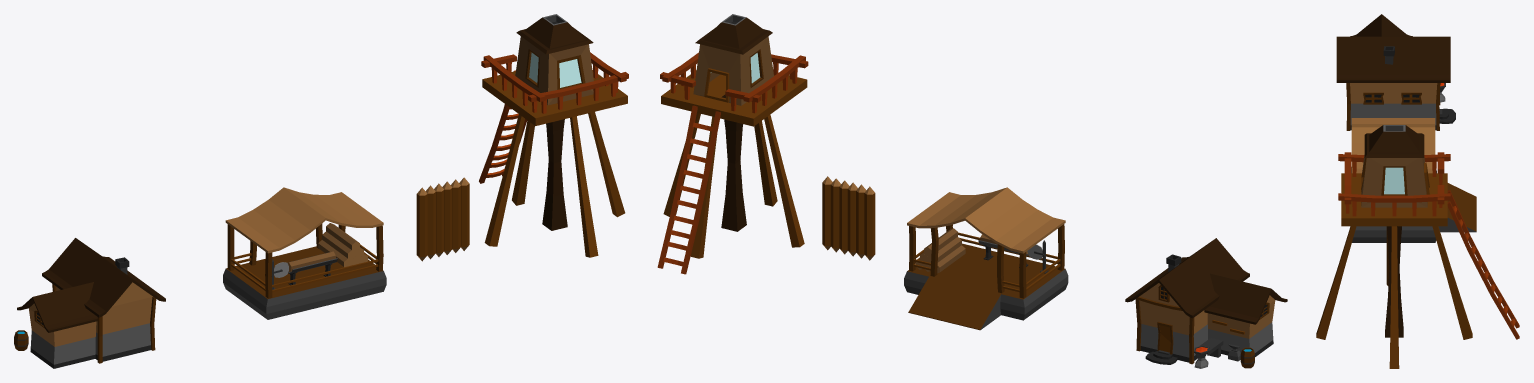
The model's file is Low Poly Request 1.fbx.
3 renders of one model, left to right at view 1: azimuth 30°, elevation 25°; view 2: azimuth 150°, elevation 25°; view 3: azimuth 270°, elevation 25°, orthographic.
Visible parts, largest first — view 1: Tower, Lumber Mill, Forge, Wood Wall; view 2: Tower, Lumber Mill, Forge, Wood Wall, Fire Pit; view 3: Tower, Forge, Lumber Mill.
Boxes of the visible parts, x1=… form: Tower: x1=479, y1=14, x2=628, y2=257; Lumber Mill: x1=223, y1=187, x2=386, y2=319; Forge: x1=17, y1=238, x2=165, y2=368; Wood Wall: x1=416, y1=177, x2=469, y2=261; Tower: x1=657, y1=14, x2=808, y2=274; Lumber Mill: x1=904, y1=187, x2=1068, y2=330; Forge: x1=1125, y1=238, x2=1287, y2=364; Wood Wall: x1=822, y1=176, x2=875, y2=260; Fire Pit: x1=1194, y1=338, x2=1223, y2=368; Tower: x1=1316, y1=125, x2=1519, y2=368; Forge: x1=1336, y1=14, x2=1455, y2=130; Lumber Mill: x1=1351, y1=118, x2=1476, y2=242.
Size of the model in its own units: 51.58 by 17.38 by 15.28.
